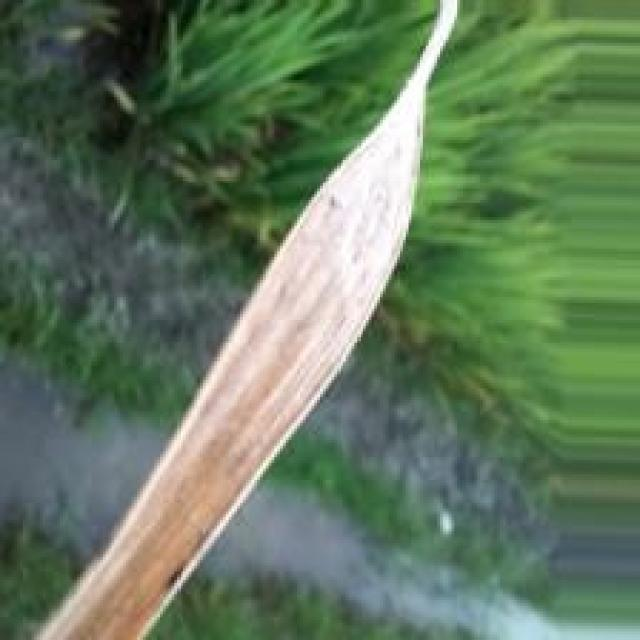Leaf_Scald: (33, 0, 469, 639)
